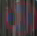No Stopping: (3, 0, 36, 34)
